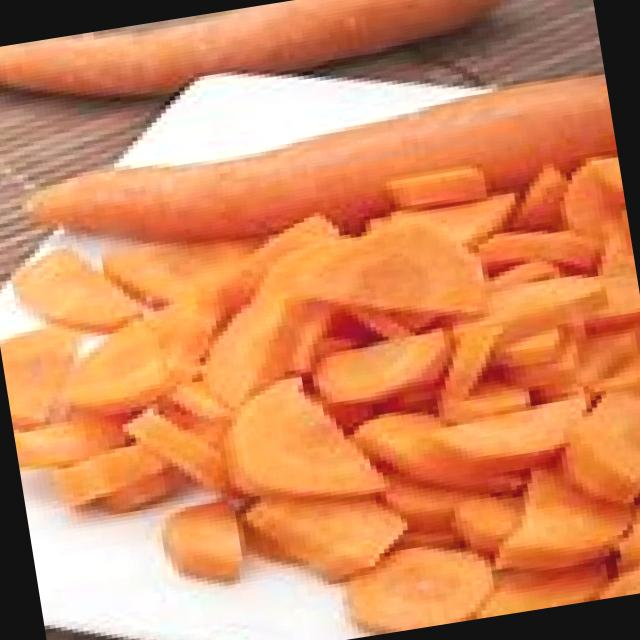carrot: (24, 72, 620, 262)
